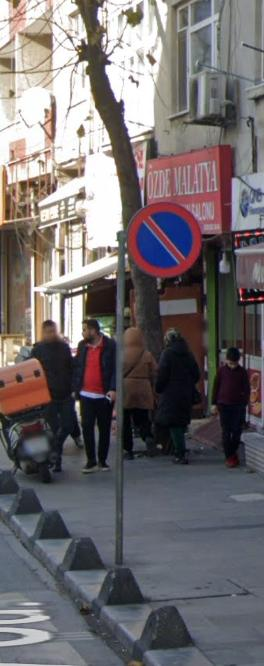nopark: (126, 202, 202, 276)
